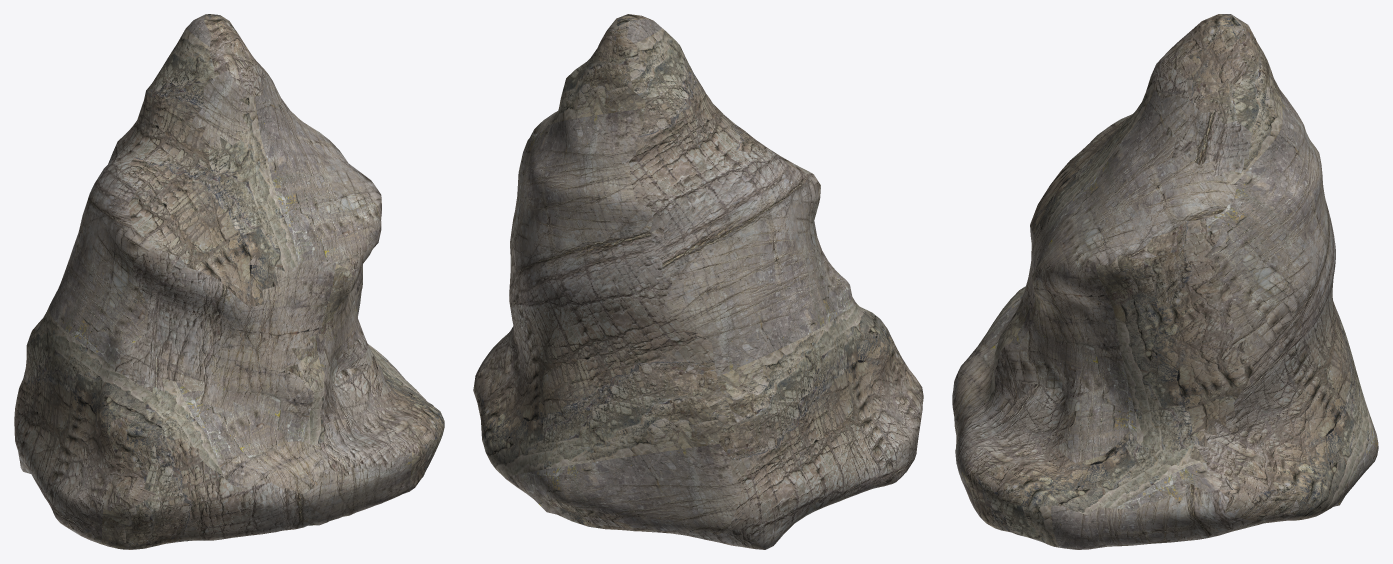
Rendered from stone_formation_b_2.fbx.
The picture shows the model from 3 angles, left to right: view 1: azimuth 30°, elevation 25°; view 2: azimuth 150°, elevation 25°; view 3: azimuth 270°, elevation 25°; orthographic projection. The views are drawn at different scales.
Visible parts, largest first — view 1: rock_formation; view 2: rock_formation; view 3: rock_formation.
Part boxes in pixels (x1,y1,x2,y2): rock_formation: (14, 14, 444, 549); rock_formation: (473, 14, 923, 549); rock_formation: (952, 14, 1378, 549).
Bounding box in the file's own units: 5917 × 6863 × 5517.
Materials: 1 (1 with a texture image).
